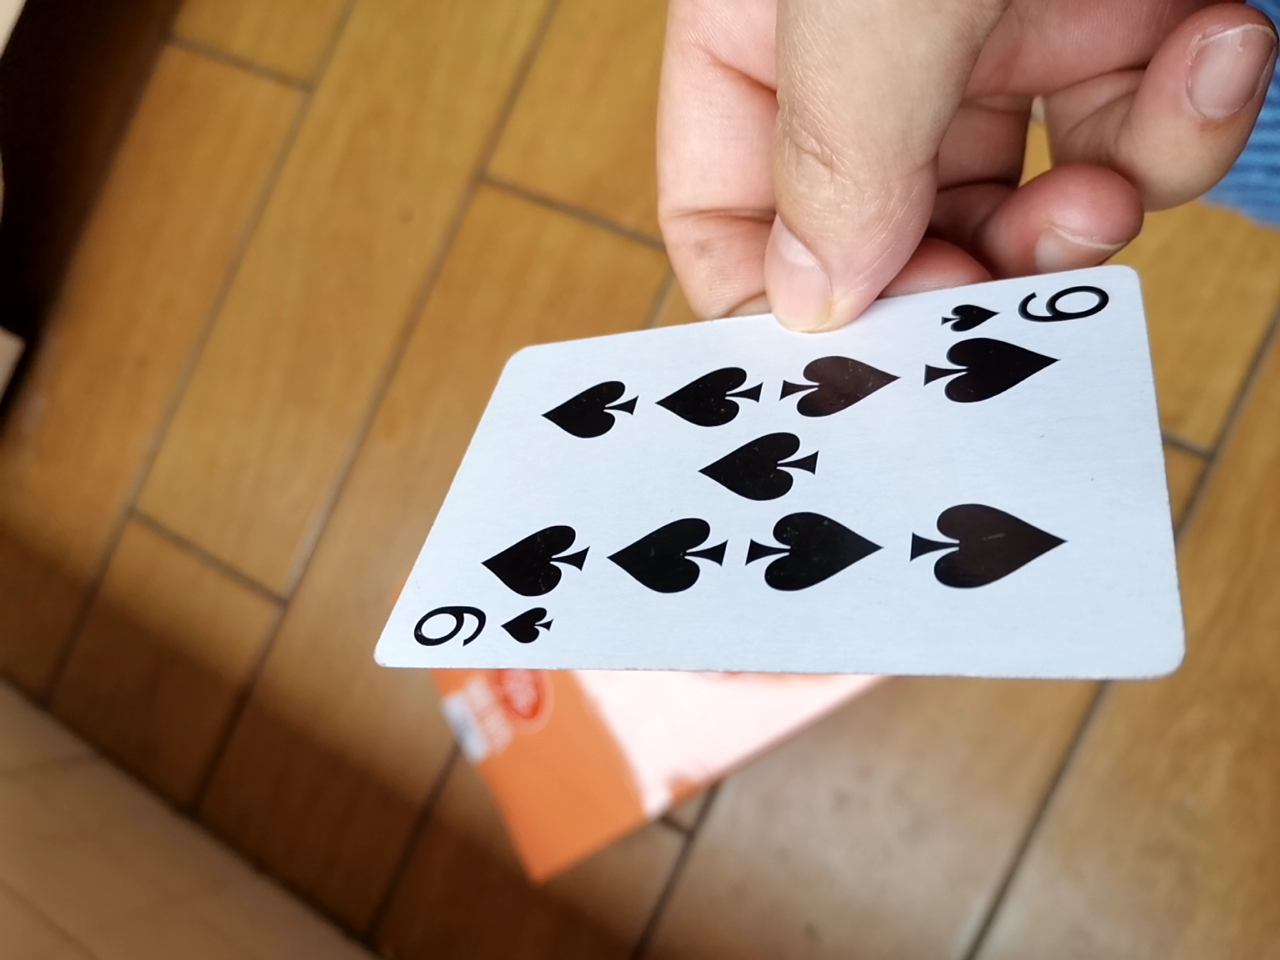ht 9: (366, 258, 1212, 712)
